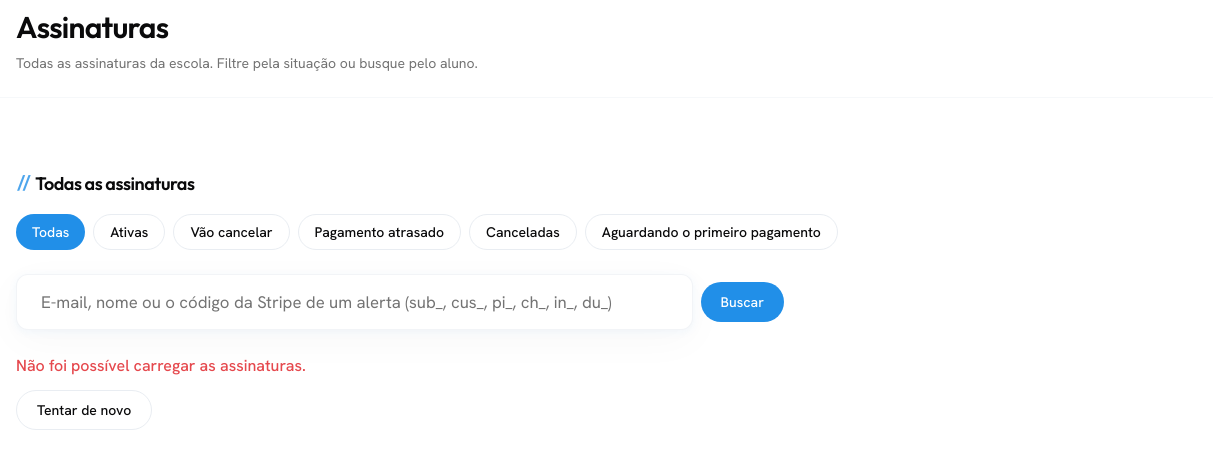
Test: Cobrança → Assinaturas — os estados › erro: diz que não carregou, e 'Tentar de novo' pede de novo
Expected: the message shows "Não foi possível carregar as assinaturas.", [16, 355, 306, 376]
Click the button "Tentar de novo".
click(84, 410)  # box [16, 390, 152, 430]
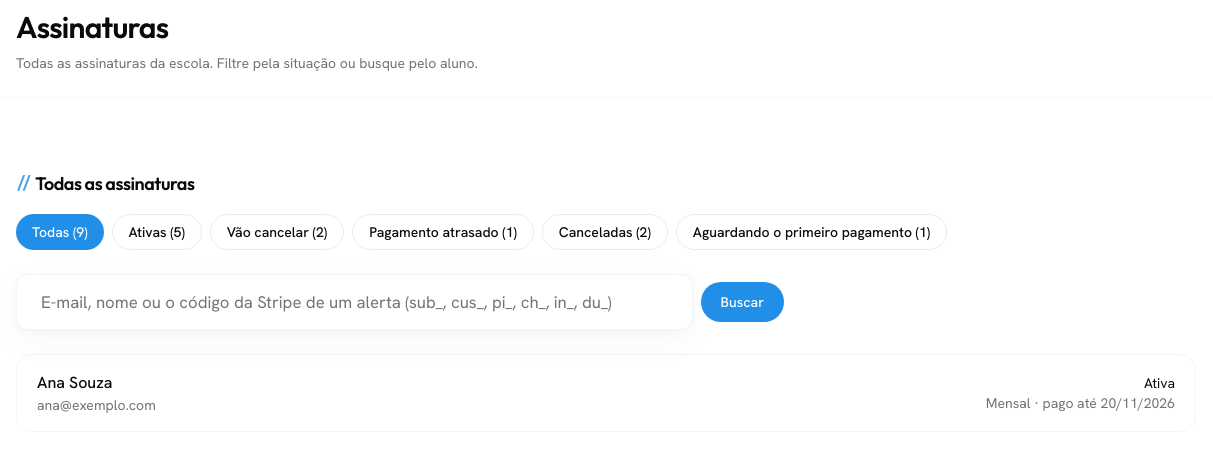
Expected: the link "Ana Souza" is shown, [37, 372, 112, 393]
